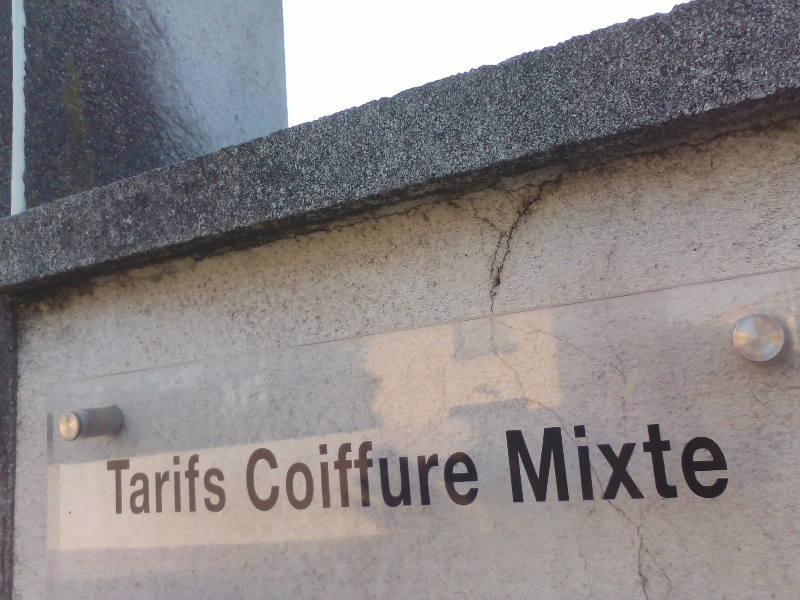text: (465, 429, 481, 512), (513, 417, 528, 504), (529, 417, 544, 504), (545, 417, 560, 504), (561, 417, 576, 504), (577, 417, 592, 504), (593, 417, 608, 504), (609, 417, 624, 504), (625, 417, 640, 504), (641, 417, 656, 504), (657, 417, 672, 504), (673, 417, 688, 504), (689, 417, 704, 504), (705, 417, 720, 504), (257, 429, 272, 512), (273, 429, 288, 512), (289, 429, 304, 512), (305, 429, 320, 512), (321, 429, 336, 512), (337, 429, 352, 512), (353, 429, 368, 512), (369, 429, 384, 512), (385, 429, 400, 512), (401, 429, 416, 512), (417, 429, 432, 512), (433, 429, 448, 512), (449, 429, 464, 512), (243, 429, 256, 512), (113, 451, 128, 516), (129, 451, 144, 516), (145, 451, 160, 516), (161, 451, 176, 516), (177, 451, 192, 516), (193, 451, 208, 516), (209, 451, 224, 516), (721, 417, 732, 504), (502, 417, 512, 504), (106, 451, 112, 516), (225, 451, 231, 516)
